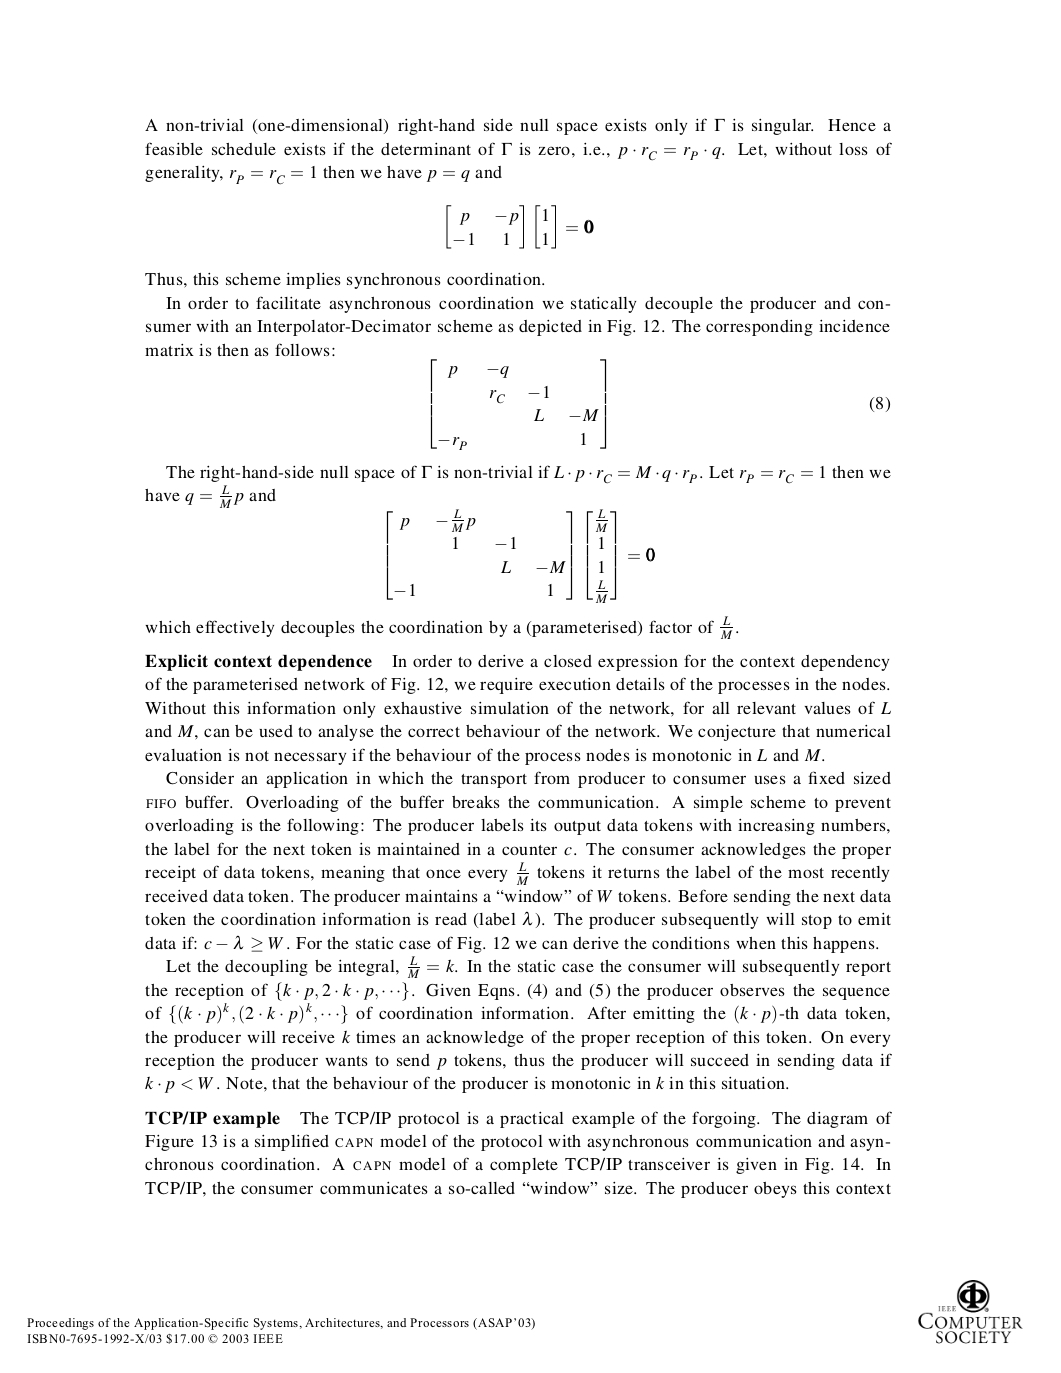figure: (918, 1281, 1022, 1343)
formula: (430, 359, 890, 449), (386, 508, 654, 603), (446, 204, 593, 249)
